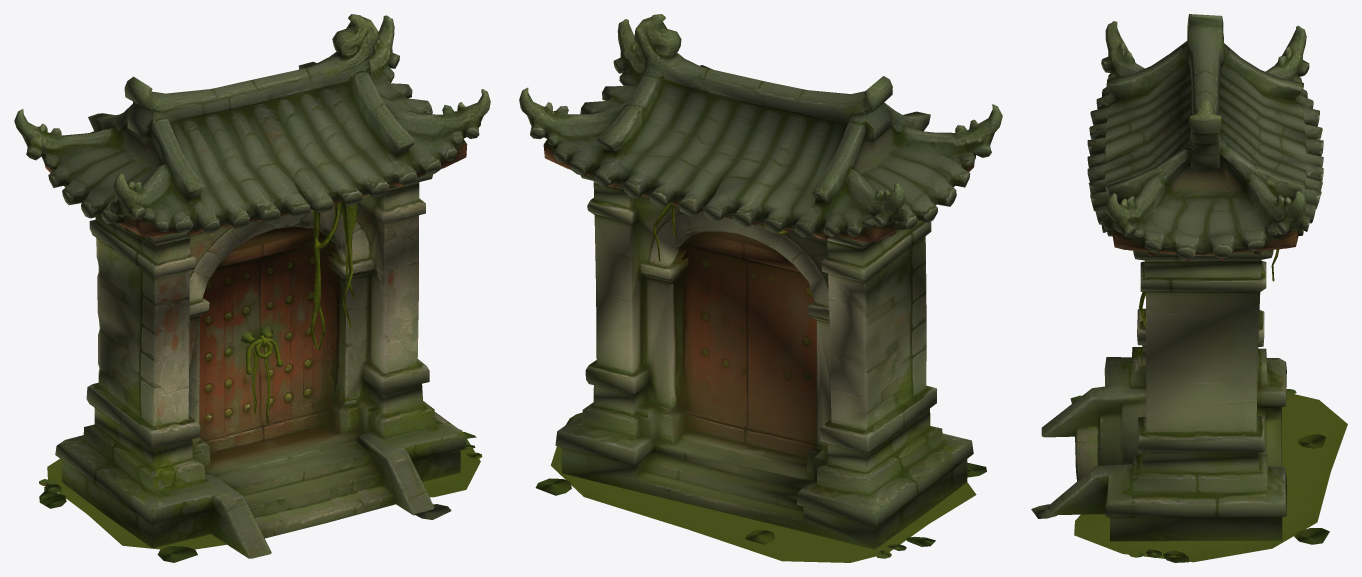
The model's file is selected.glb.
The picture shows the model from 3 angles, left to right: view 1: azimuth 30°, elevation 25°; view 2: azimuth 150°, elevation 25°; view 3: azimuth 270°, elevation 25°; orthographic projection. The views are drawn at different scales.
Parts seen in each view (by area): view 1: tripo_node_7c90c877-2f09-4a90-9aa9-2e97ca87e19e; view 2: tripo_node_7c90c877-2f09-4a90-9aa9-2e97ca87e19e; view 3: tripo_node_7c90c877-2f09-4a90-9aa9-2e97ca87e19e.
Part boxes in pixels (x1=…): tripo_node_7c90c877-2f09-4a90-9aa9-2e97ca87e19e: x1=14, y1=14, x2=490, y2=562; tripo_node_7c90c877-2f09-4a90-9aa9-2e97ca87e19e: x1=519, y1=14, x2=1002, y2=562; tripo_node_7c90c877-2f09-4a90-9aa9-2e97ca87e19e: x1=1031, y1=14, x2=1347, y2=562.
Bounding box in the file's own units: 0.9473 × 0.998 × 0.6895.
1 material, 1 textured.
